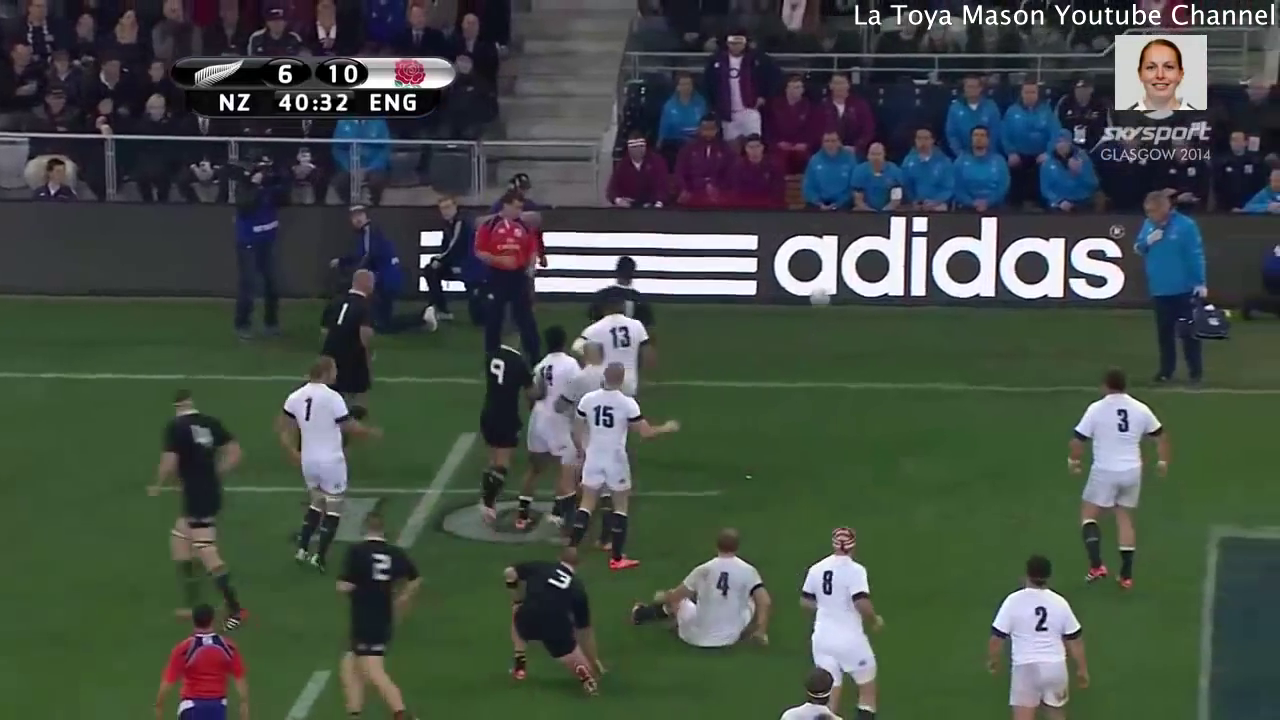player: (1062, 360, 1180, 600), (561, 360, 677, 582), (145, 382, 247, 632), (276, 357, 384, 576), (620, 524, 781, 658), (974, 557, 1092, 720), (333, 516, 426, 720), (494, 540, 613, 698), (792, 522, 886, 720), (518, 316, 582, 548), (466, 317, 534, 532), (313, 273, 384, 447), (559, 296, 661, 401), (581, 252, 663, 340), (562, 341, 629, 394)
